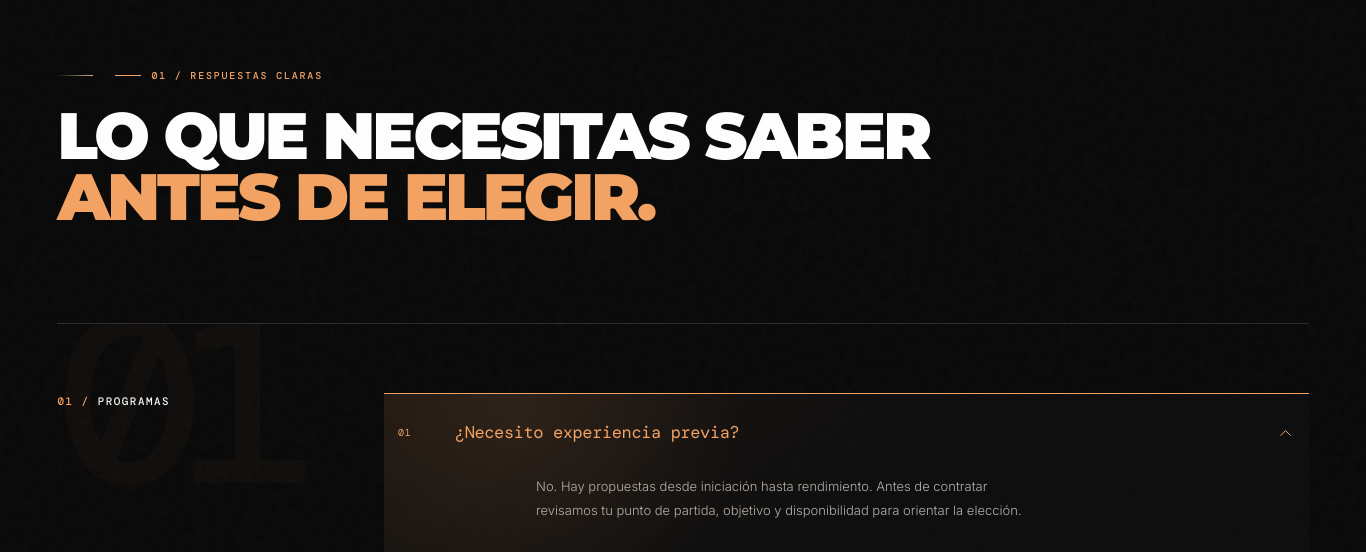
Scenario: /faq — preguntas frecuentes verificables › deriva las preguntas de faqContent y permite desplegar respuestas
(page scrolled)
Click the button "01 ¿Necesito experiencia previa?". click: (597, 432)
box: [384,394,1309,472]
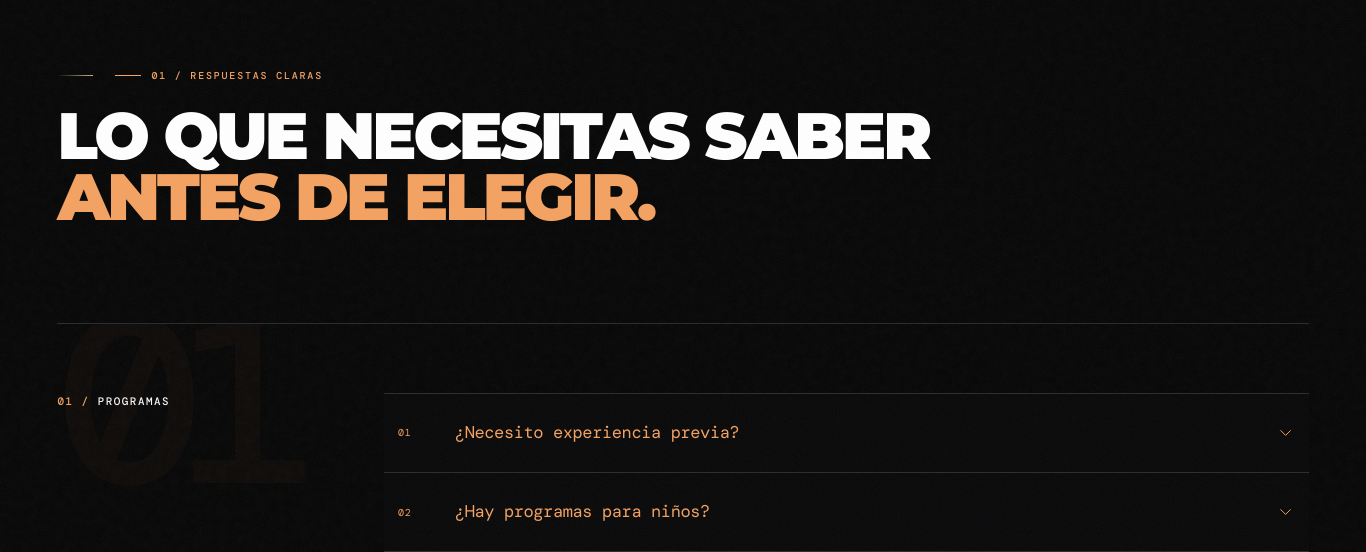
Result: the button "01 ¿Necesito experiencia previa?" is collapsed at [384,394,1309,472]
